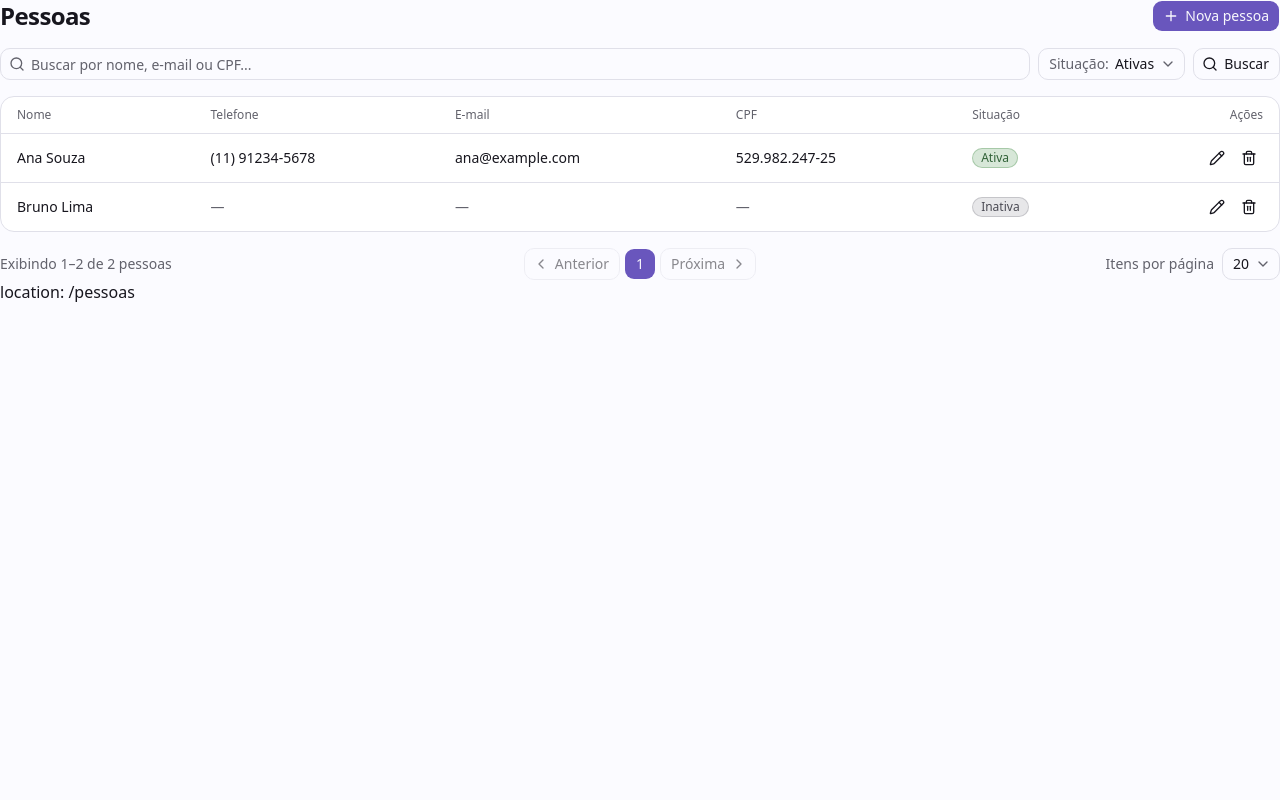
ClientListPage › keeps the newer search result even if the older, superseded request resolves later
The image size is (1280, 800).
expect the link "Ana Souza" is shown: met, box [17,148,85,167]
Type "bruno" into the field named "Buscar pessoas por nome, e-mail ou CPF".
click(527, 64); type("bruno")  # box [25,48,1029,80]
Then press Enter
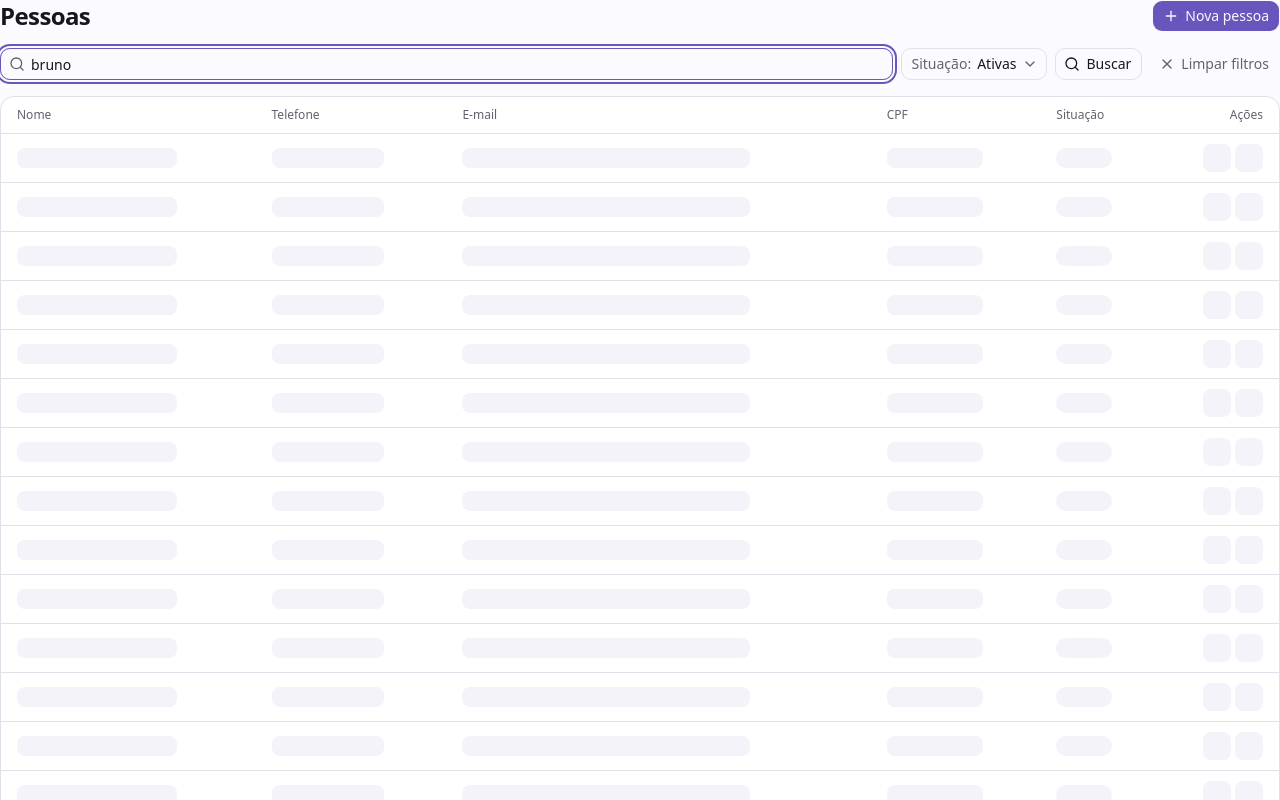
Replace the text in the field named "Buscar pessoas por nome, e-mail ou CPF" with "ana" at (458, 64), box [25,48,892,80]
Then press Enter
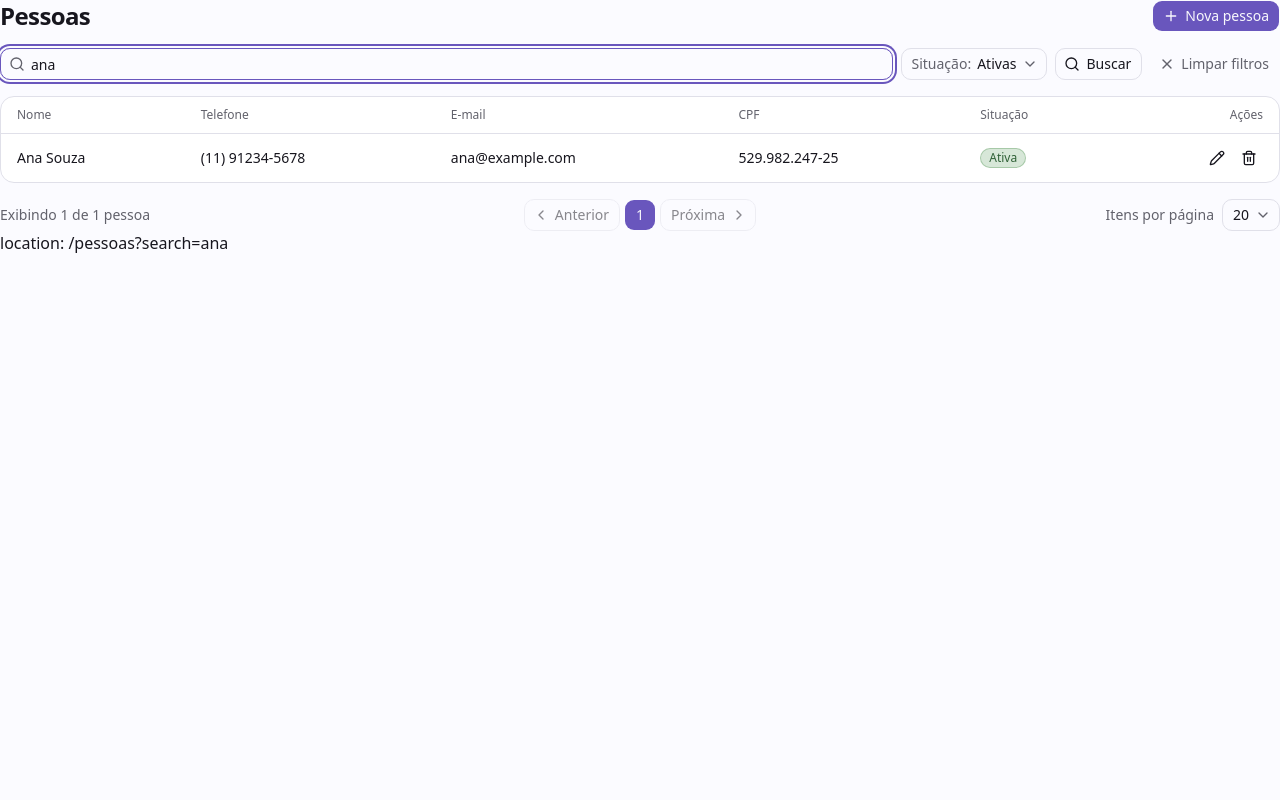
expect the link "Bruno Lima" is not shown: met
expect the link "Ana Souza" is shown: met, box [17,148,85,167]
